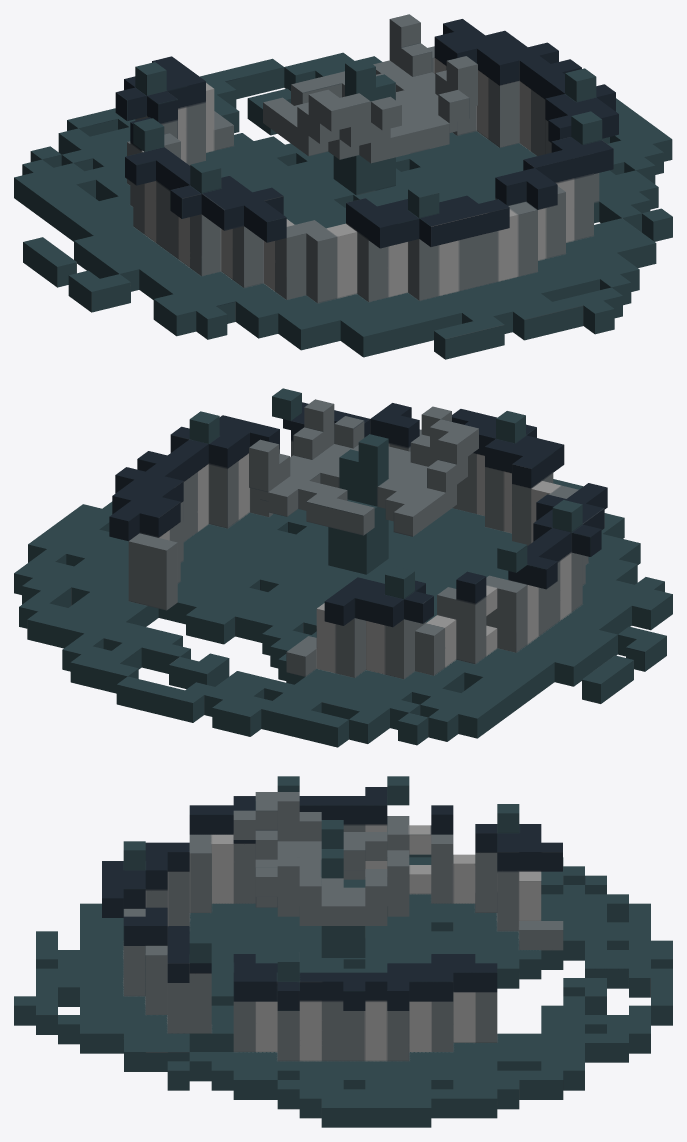
Rendered from fountain_destroyed.glb.
3 renders of one model, top to bottom at view 1: azimuth 30°, elevation 25°; view 2: azimuth 150°, elevation 25°; view 3: azimuth 270°, elevation 25°, orthographic. The views are drawn at different scales.
Parts seen in each view (by area): view 1: fountain_destroyed; view 2: fountain_destroyed; view 3: fountain_destroyed.
Part boxes in pixels (x1,y1,x2,y2): fountain_destroyed: [14, 14, 672, 359]; fountain_destroyed: [14, 388, 672, 747]; fountain_destroyed: [14, 776, 672, 1127].
Size of the model in its own units: 3 by 0.8 by 3.
Materials: 1 (1 with a texture image).
